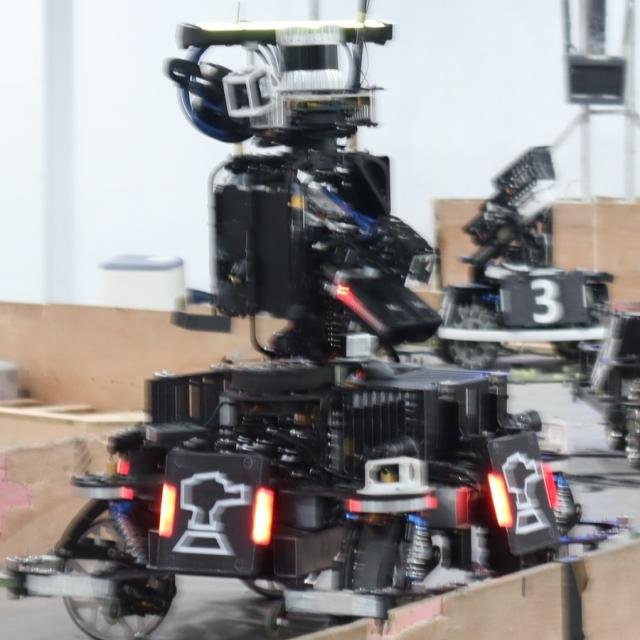Rs: (158, 457, 269, 569), (488, 448, 557, 540)
